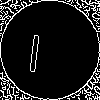I: (25, 25, 45, 73)
